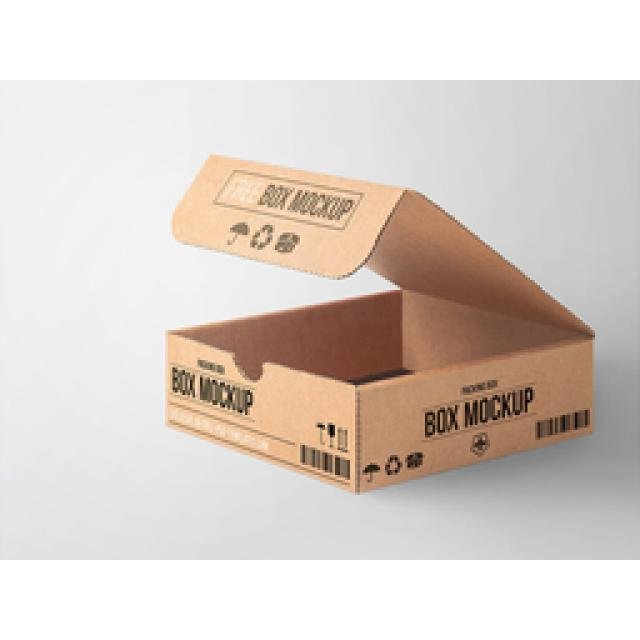cardboard: (164, 153, 597, 492)
